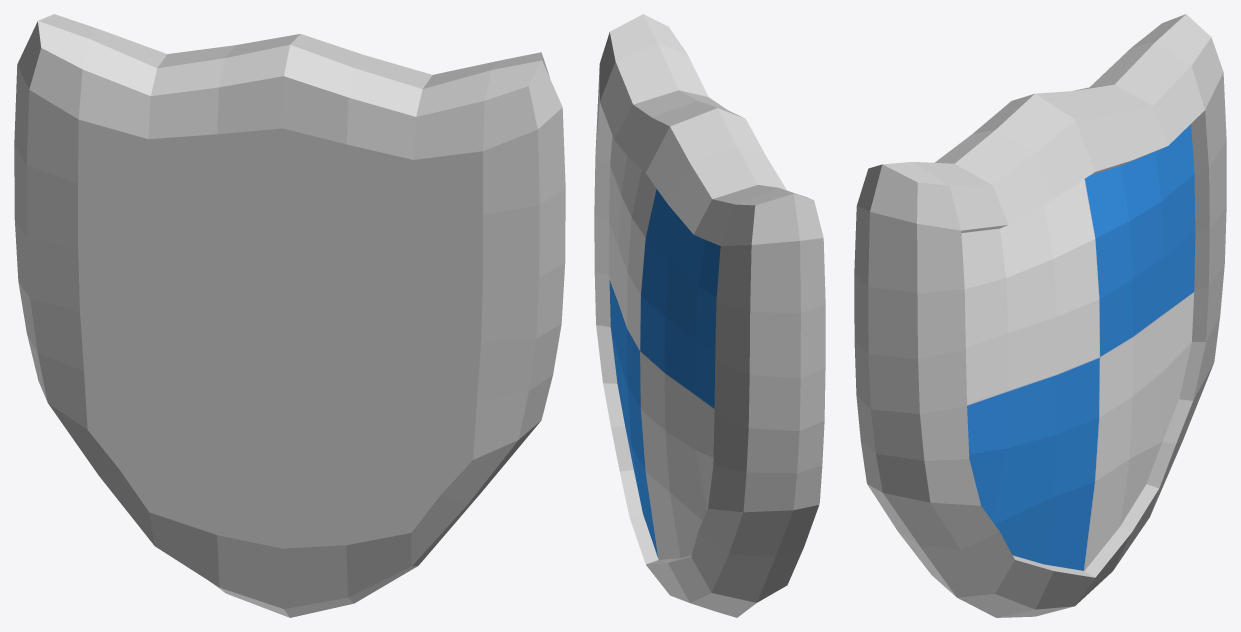
Rendered from marblemaze-models-shield-textured.fbx.
3 renders of one model, left to right at view 1: azimuth 30°, elevation 25°; view 2: azimuth 150°, elevation 25°; view 3: azimuth 270°, elevation 25°, orthographic. The views are drawn at different scales.
Visible parts, largest first — view 1: Shield; view 2: Shield, Shield Face; view 3: Shield, Shield Face.
Boxes of the visible parts, left/top/right/bottom form: Shield: left=14, top=14, right=565, bottom=617; Shield: left=594, top=14, right=825, bottom=617; Shield Face: left=609, top=136, right=720, bottom=559; Shield: left=854, top=14, right=1226, bottom=617; Shield Face: left=961, top=124, right=1195, bottom=570.
Size of the model in its own units: 96.39 by 135 by 86.29.
